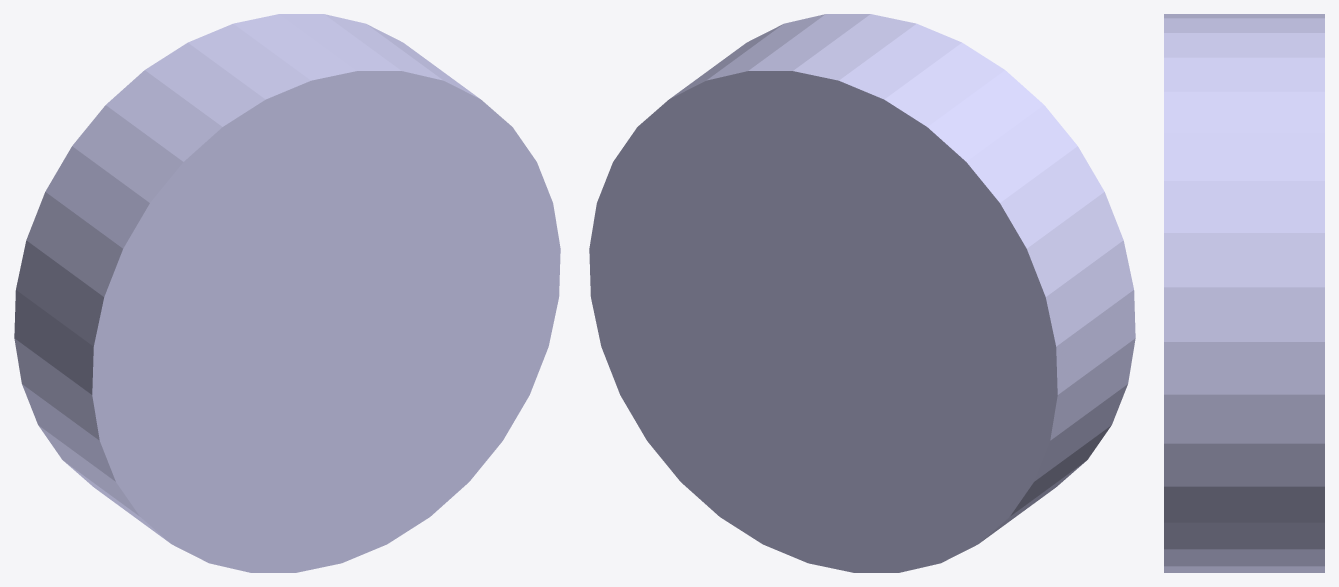
The model's file is rambler_Chasis_vis_32.dae.
3 views of the same model, side by side, from view 1: azimuth 30°, elevation 25°; view 2: azimuth 150°, elevation 25°; view 3: azimuth 270°, elevation 25° (orthographic). The views are drawn at different scales.
Visible parts, largest first — view 1: Node_0x7fe100285c80; view 2: Node_0x7fe100285c80; view 3: Node_0x7fe100285c80.
Part boxes in pixels (x1=…): Node_0x7fe100285c80: x1=14, y1=14, x2=560, y2=572; Node_0x7fe100285c80: x1=589, y1=14, x2=1135, y2=572; Node_0x7fe100285c80: x1=1164, y1=14, x2=1324, y2=572.
Bounding box in the file's own units: 0.0186 × 0.0186 × 0.00537.
